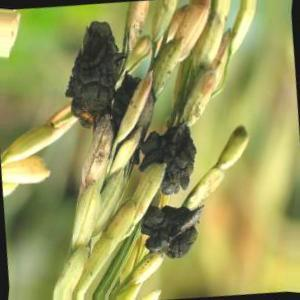Leaf_Scald: (68, 18, 132, 119), (143, 204, 208, 256), (155, 128, 205, 192)
